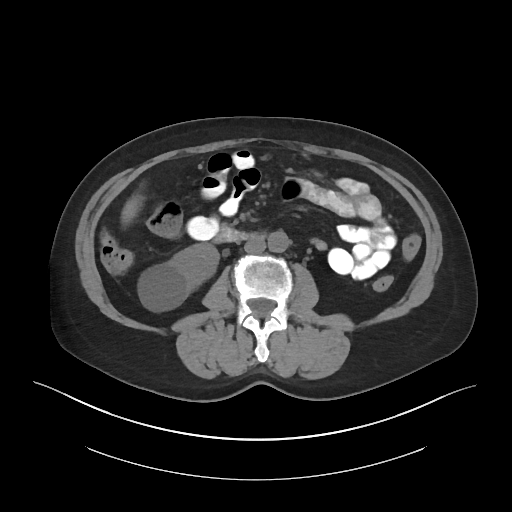Lesion: (134, 266, 191, 315)
